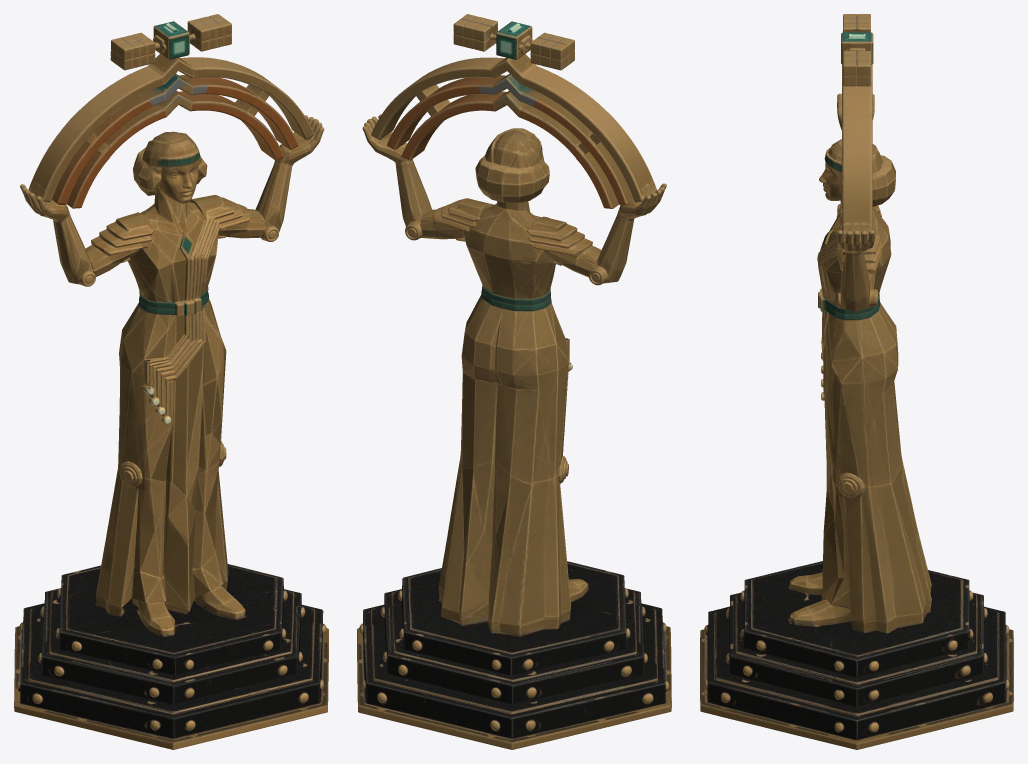
File: communication.glb
3 renders of one model, left to right at view 1: azimuth 30°, elevation 25°; view 2: azimuth 150°, elevation 25°; view 3: azimuth 270°, elevation 25°, orthographic.
Bounding box in the file's own units: 0.9652 × 1.9 × 0.8438.
1 material, 1 textured.
